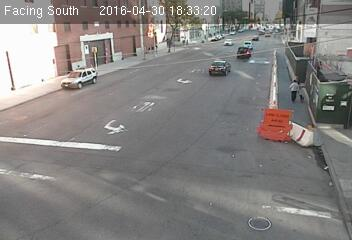neg: (140, 44, 163, 75), (75, 63, 92, 85), (215, 59, 230, 80)
pos: (286, 78, 305, 104)
